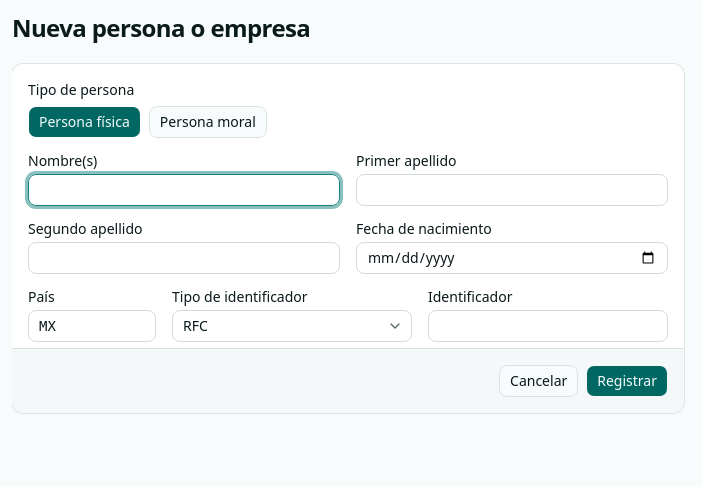
Scenario: CreatePartyPage › says so when the identifier fails its validator (422 IDENTIFIER_INVALID)
Type "Ana María" into the field labelled "Nombre(s)" at (184,190), box [28,174,340,206]
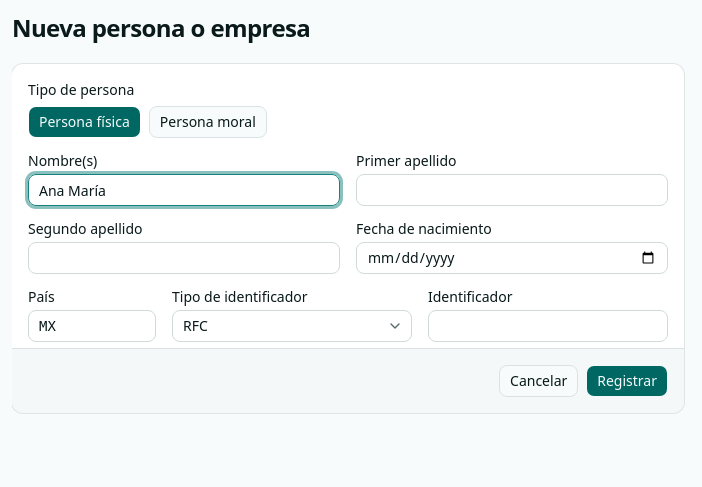
Type "Pérez" into the field labelled "Primer apellido" at (512,190), box [356,174,668,206]
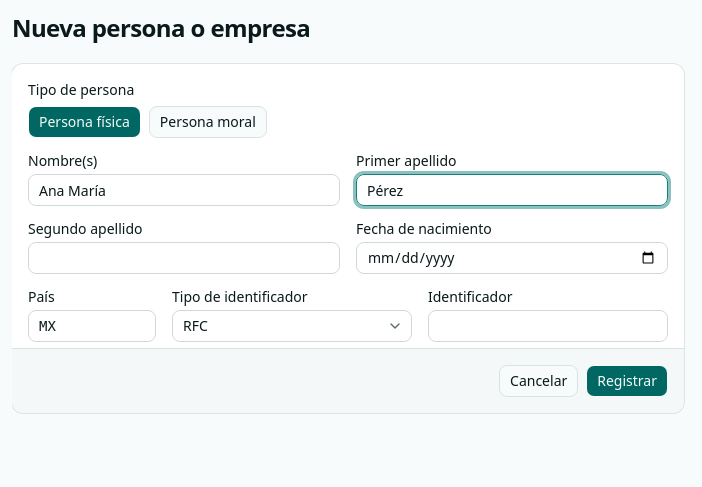
Type "CACX7605101P8" into the field labelled "Identificador" at (548,326), box [428,310,668,342]
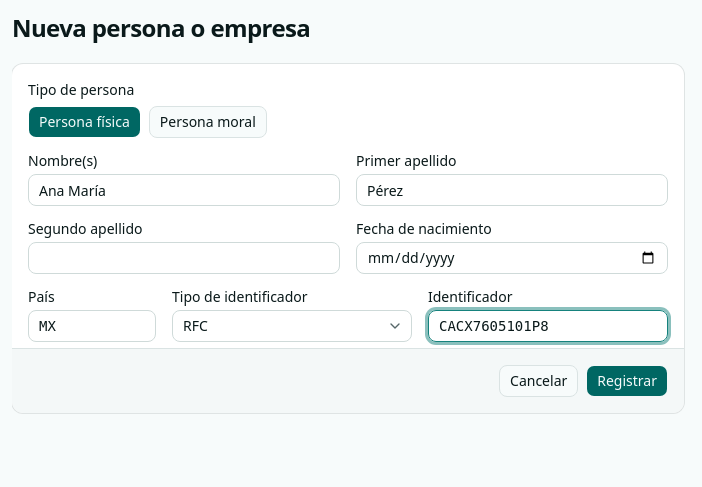
Click the button "Registrar" at (627,381), box [586,365,668,397]
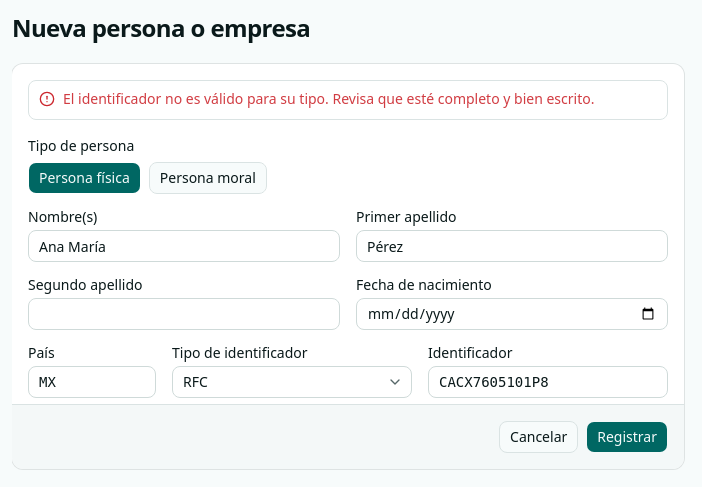
Now the message shows "El identificador no es válido para su tipo. Revisa que esté completo y bien escrito.", box [63,89,594,108]
